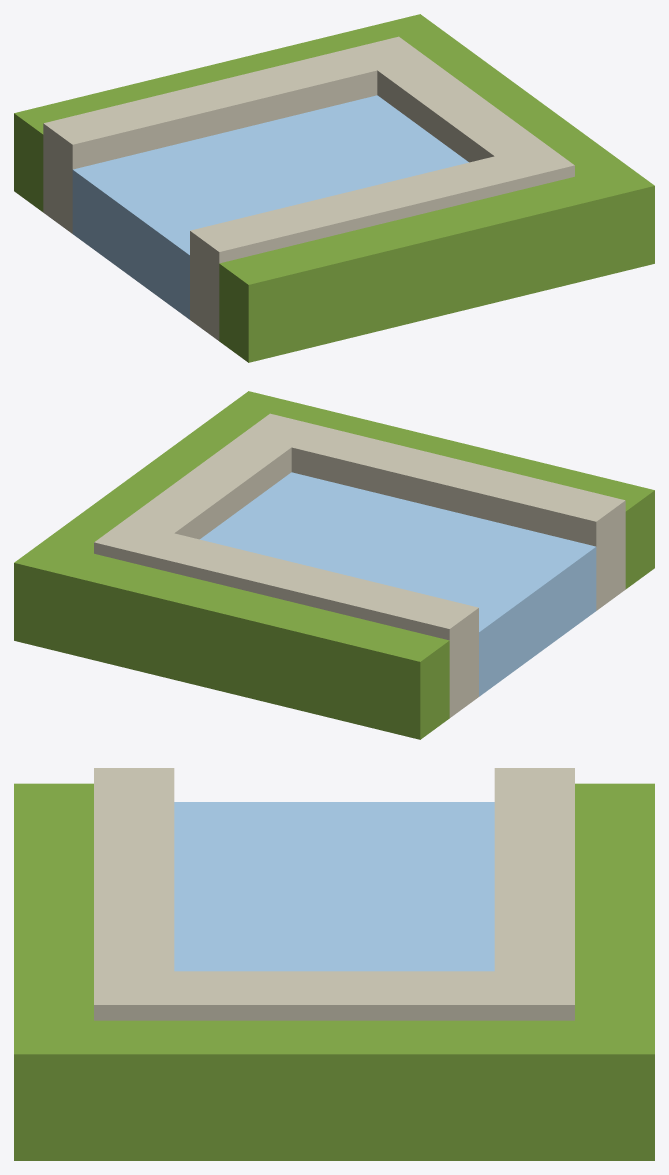
Rendered from tile137.fbx.
3 renders of one model, top to bottom at view 1: azimuth 30°, elevation 25°; view 2: azimuth 150°, elevation 25°; view 3: azimuth 270°, elevation 25°, orthographic. The views are drawn at different scales.
Visible parts, largest first — view 1: tile137; view 2: tile137; view 3: tile137.
Part boxes in pixels (x1=…): tile137: x1=14, y1=14, x2=654, y2=362; tile137: x1=14, y1=391, x2=654, y2=739; tile137: x1=14, y1=768, x2=654, y2=1160.
Bounding box in the file's own units: 10 × 2.1 × 10.
